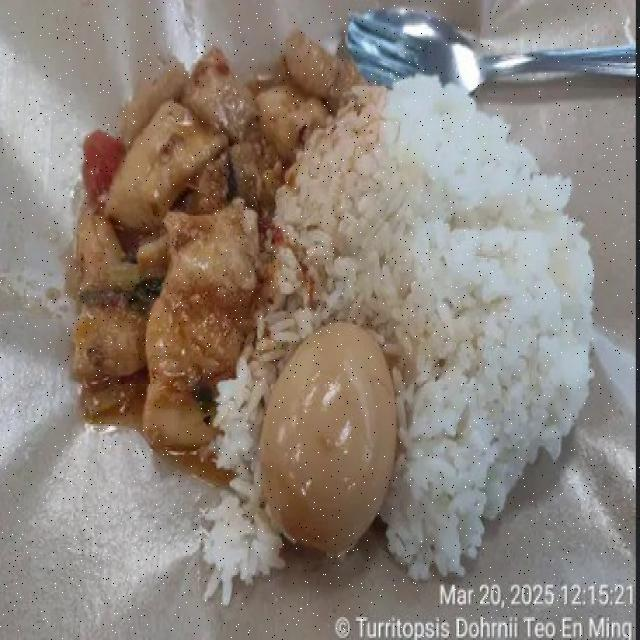Chicken: (73, 31, 361, 449)
Egg: (260, 323, 396, 554)
Rice: (202, 76, 592, 602)
